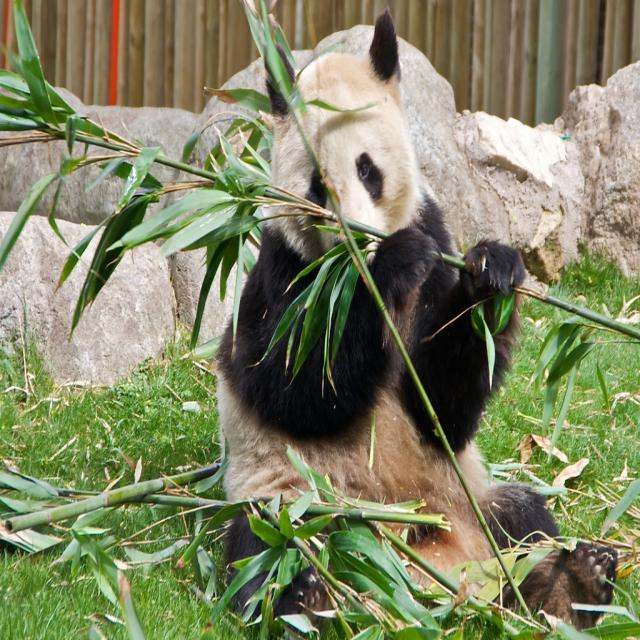panda: (217, 9, 619, 626)
